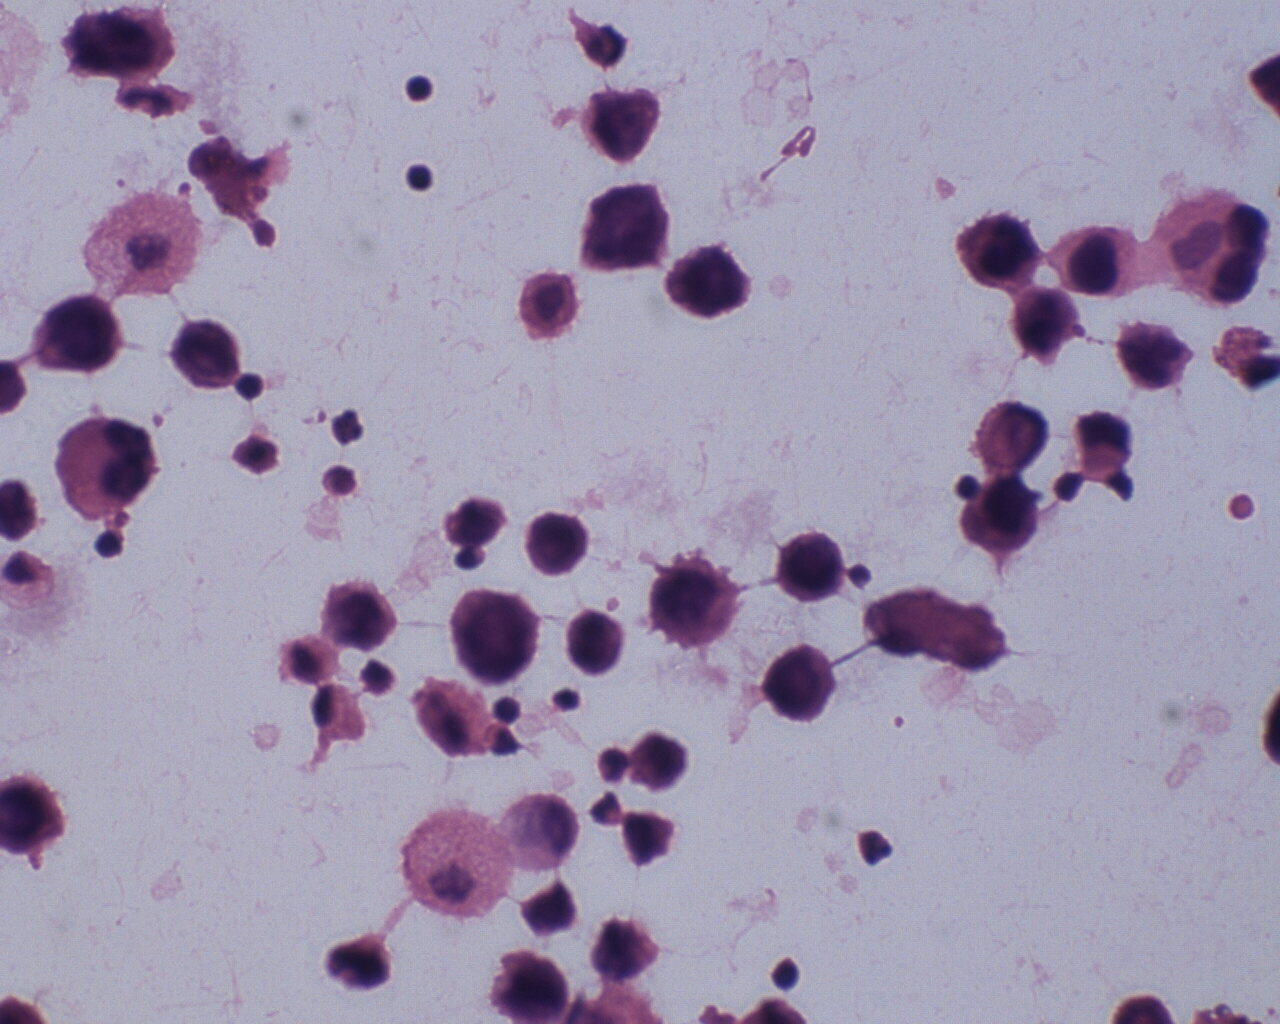ab: (54, 408, 160, 520), (64, 3, 187, 83), (445, 588, 541, 688), (645, 552, 740, 650), (28, 292, 121, 382), (579, 181, 670, 274), (1053, 218, 1145, 307), (1003, 280, 1088, 374), (956, 468, 1041, 559), (958, 207, 1046, 290), (763, 638, 841, 731), (580, 84, 668, 166), (669, 239, 749, 325), (1115, 315, 1197, 396), (967, 397, 1050, 478), (774, 526, 847, 606), (168, 312, 240, 393), (326, 579, 401, 652), (522, 508, 592, 579), (566, 605, 631, 675)
histo: (404, 801, 516, 926)
lymph: (402, 160, 440, 202), (408, 70, 436, 106)
meso: (516, 267, 583, 340)
neutro: (848, 827, 895, 872)
